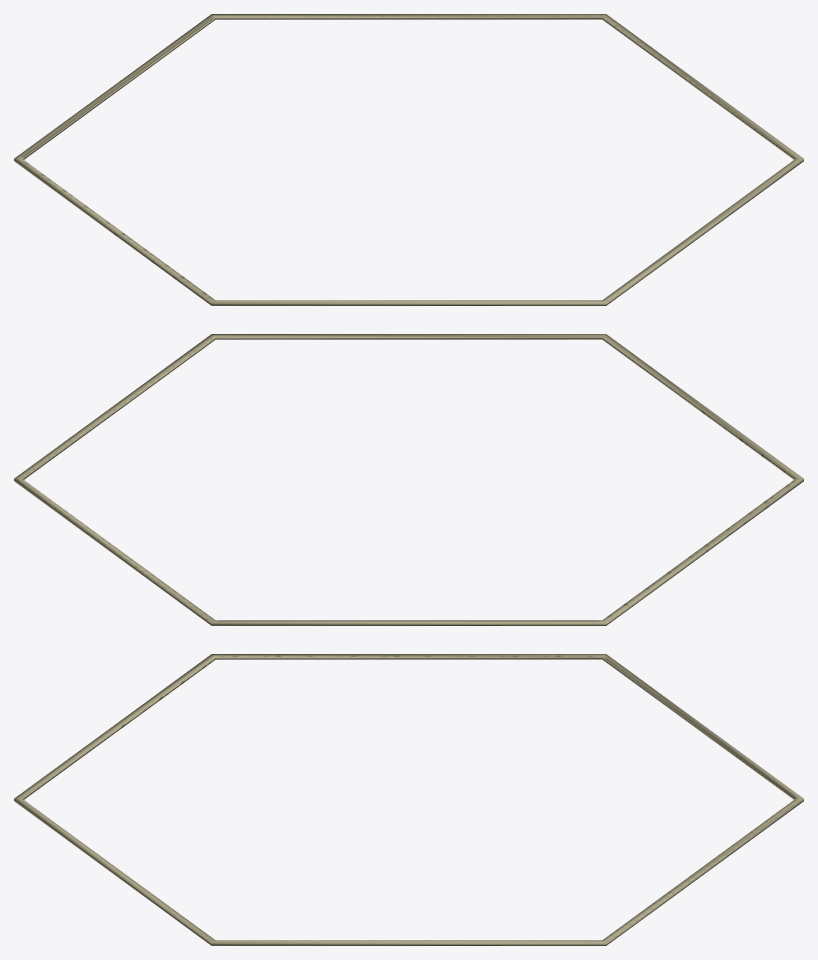
Rendered from SM_HexTile_Away.glb.
3 views of the same model, one above another, from view 1: azimuth 30°, elevation 25°; view 2: azimuth 150°, elevation 25°; view 3: azimuth 270°, elevation 25° (orthographic).
Parts seen in each view (by area): view 1: HexTile_Away; view 2: HexTile_Away; view 3: HexTile_Away.
Boxes of the visible parts, <box> form: HexTile_Away: <box>14,14,803,305</box>; HexTile_Away: <box>14,334,803,625</box>; HexTile_Away: <box>14,654,803,945</box>.
Bounding box in the file's own units: 0.955 × 0.004 × 1.1.
1 material, 1 textured.
